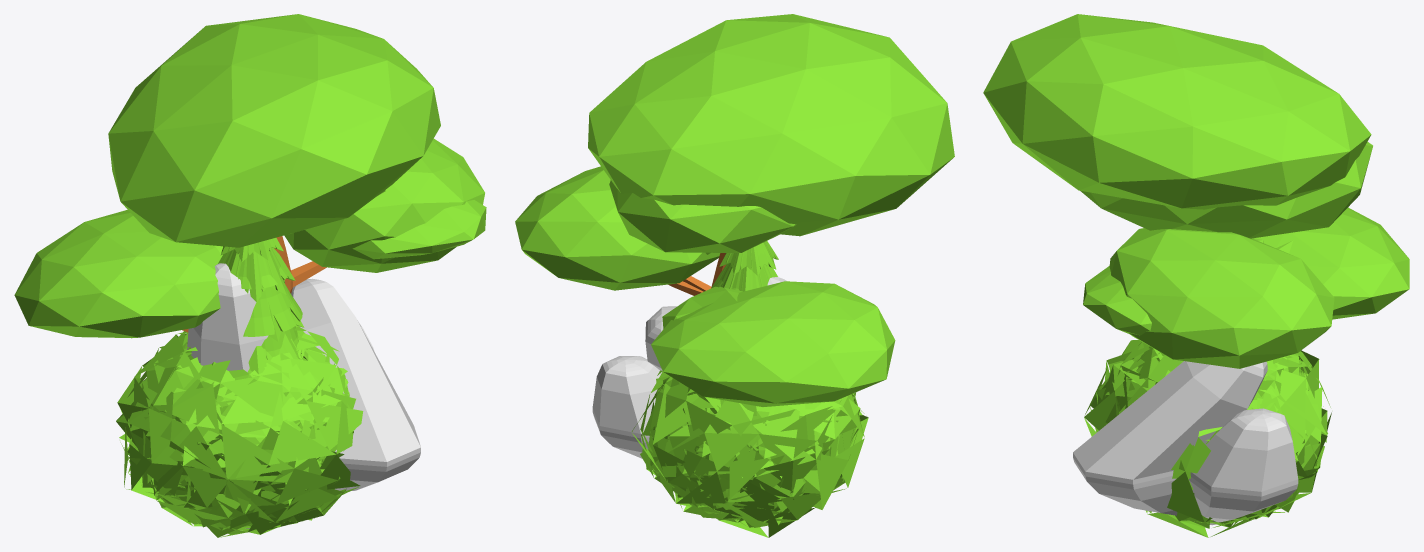
Rendered from LowPolyTree3.fbx.
The picture shows the model from 3 angles, left to right: view 1: azimuth 30°, elevation 25°; view 2: azimuth 150°, elevation 25°; view 3: azimuth 270°, elevation 25°; orthographic projection. The views are drawn at different scales.
Visible parts, largest first — view 1: Acacia1, Bush, Rock, Acacia2, SpikyPine, RoundPine; view 2: Acacia1, Bush, Acacia2, Rock, SpikyPine; view 3: Acacia1, Rock, Bush, Acacia2.
Boxes of the visible parts, x1,y1,x2,y2 form: Acacia1: [14, 14, 484, 338]; Bush: [116, 326, 363, 537]; Rock: [187, 263, 420, 490]; Acacia2: [213, 190, 486, 293]; SpikyPine: [185, 238, 304, 376]; RoundPine: [225, 248, 308, 375]; Acacia1: [515, 14, 954, 406]; Bush: [632, 370, 868, 537]; Acacia2: [609, 180, 796, 328]; Rock: [592, 277, 786, 458]; SpikyPine: [711, 241, 778, 291]; Acacia1: [983, 14, 1409, 368]; Rock: [1073, 361, 1298, 522]; Bush: [1084, 340, 1331, 537]; Acacia2: [1080, 141, 1372, 335].
Bounding box in the file's own units: 698 × 800 × 634.
